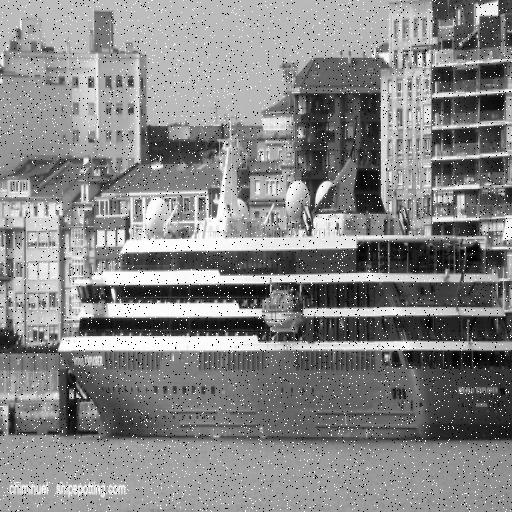cruises: (56, 136, 512, 446)
